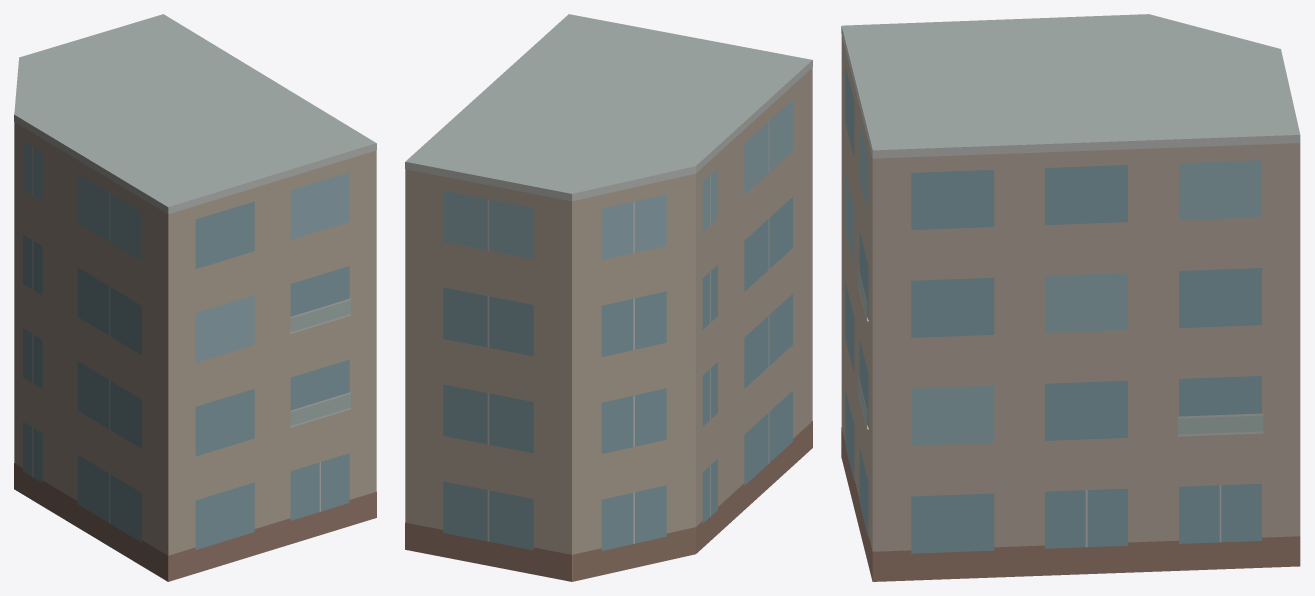
File: survey-upis-32564601.glb
The picture shows the model from 3 angles, left to right: view 1: azimuth 30°, elevation 25°; view 2: azimuth 150°, elevation 25°; view 3: azimuth 270°, elevation 25°; orthographic projection. The views are drawn at different scales.
Parts seen in each view (by area): view 1: survey-upis-32564601.tmp; view 2: survey-upis-32564601.tmp; view 3: survey-upis-32564601.tmp.
Boxes of the visible parts, left/top/right/bottom form: survey-upis-32564601.tmp: left=14, top=14, right=376, bottom=581; survey-upis-32564601.tmp: left=405, top=14, right=812, bottom=581; survey-upis-32564601.tmp: left=841, top=14, right=1300, bottom=581.
Bounding box in the file's own units: 8.68 × 12.8 × 12.35.
